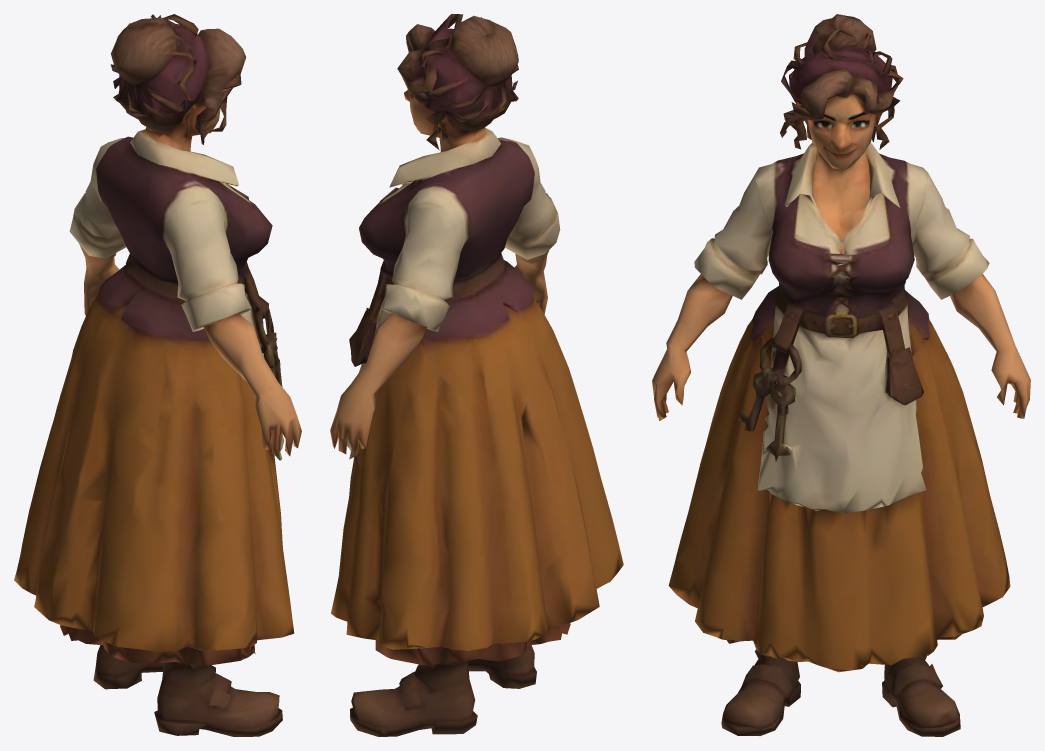
Rendered from model-npc-dot-01.glb.
3 renders of one model, left to right at view 1: azimuth 30°, elevation 25°; view 2: azimuth 150°, elevation 25°; view 3: azimuth 270°, elevation 25°, orthographic.
Visible parts, largest first — view 1: tripo_node_6cd34815-ca41-4638-835f-331faff63eb8; view 2: tripo_node_6cd34815-ca41-4638-835f-331faff63eb8; view 3: tripo_node_6cd34815-ca41-4638-835f-331faff63eb8.
Part boxes in pixels (box(x1,y1,x2,y2)): tripo_node_6cd34815-ca41-4638-835f-331faff63eb8: box(14, 14, 301, 736); tripo_node_6cd34815-ca41-4638-835f-331faff63eb8: box(330, 14, 623, 736); tripo_node_6cd34815-ca41-4638-835f-331faff63eb8: box(652, 14, 1030, 736).
Bounding box in the file's own units: 0.5988 × 1.7 × 0.8541.
Materials: 1 (1 with a texture image).
